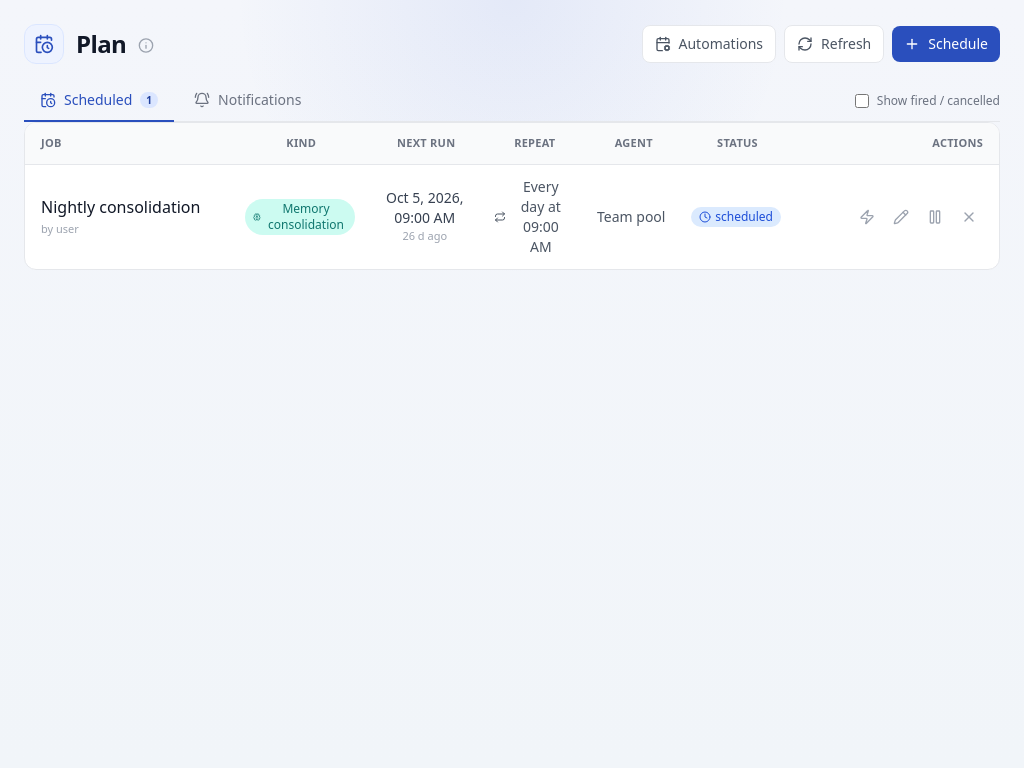
Plan — editing a memory consolidation job › refuses to save without a pool picked
expect the text "Nightly consolidation" is shown: met, box top-left (41, 196), bottom-right (200, 218)
Click the button titled "Edit" at (901, 216), box top-left (887, 202), bottom-right (915, 230)
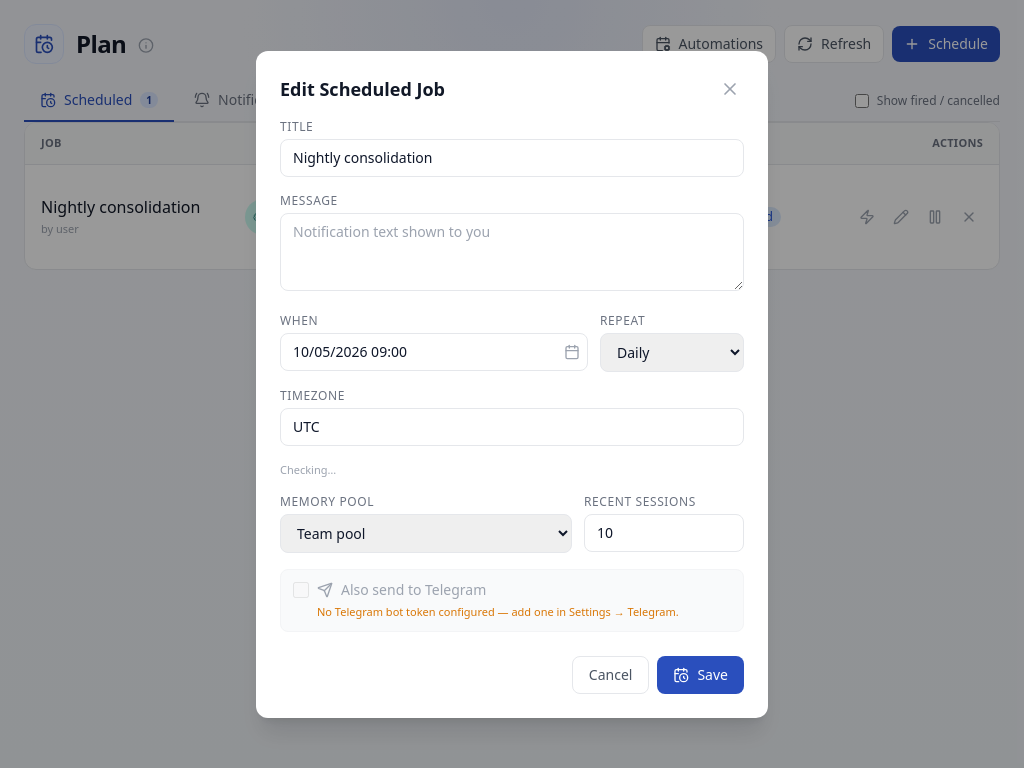
expect the heading "Edit Scheduled Job" is shown: met, box top-left (280, 74), bottom-right (445, 102)
Select "Select a pool…" in the dropdown showing "Team pool" below "Memory pool" at (426, 534), box top-left (280, 514), bottom-right (572, 553)
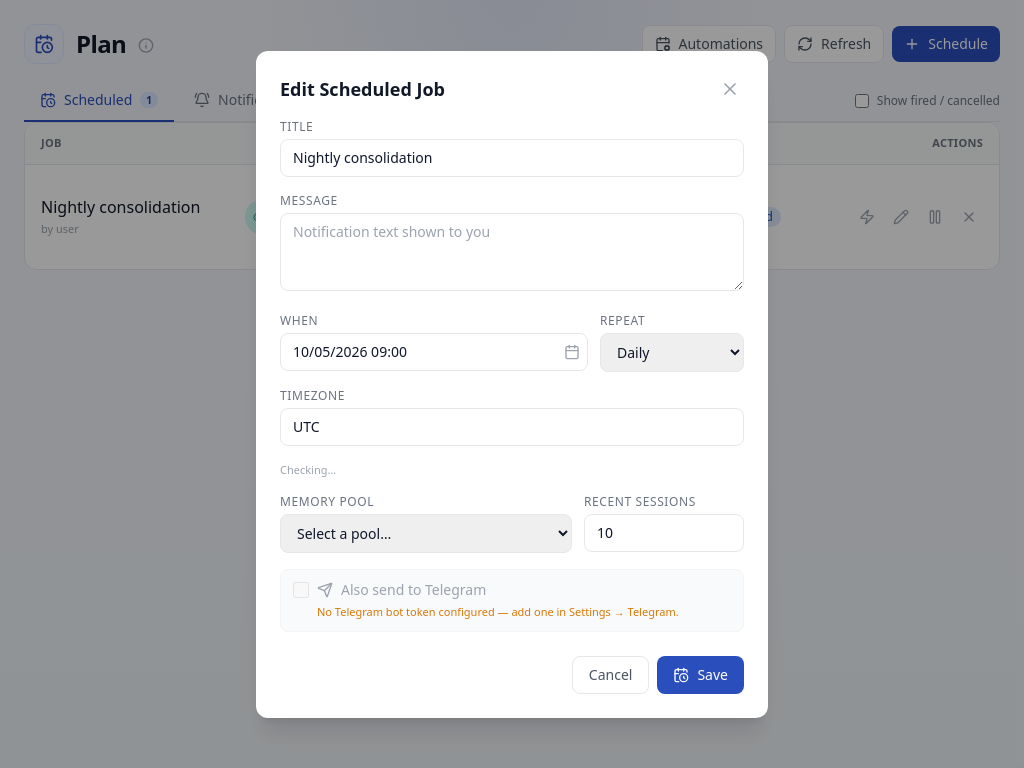
Click the button "Save" at (701, 674), box top-left (657, 656), bottom-right (744, 694)
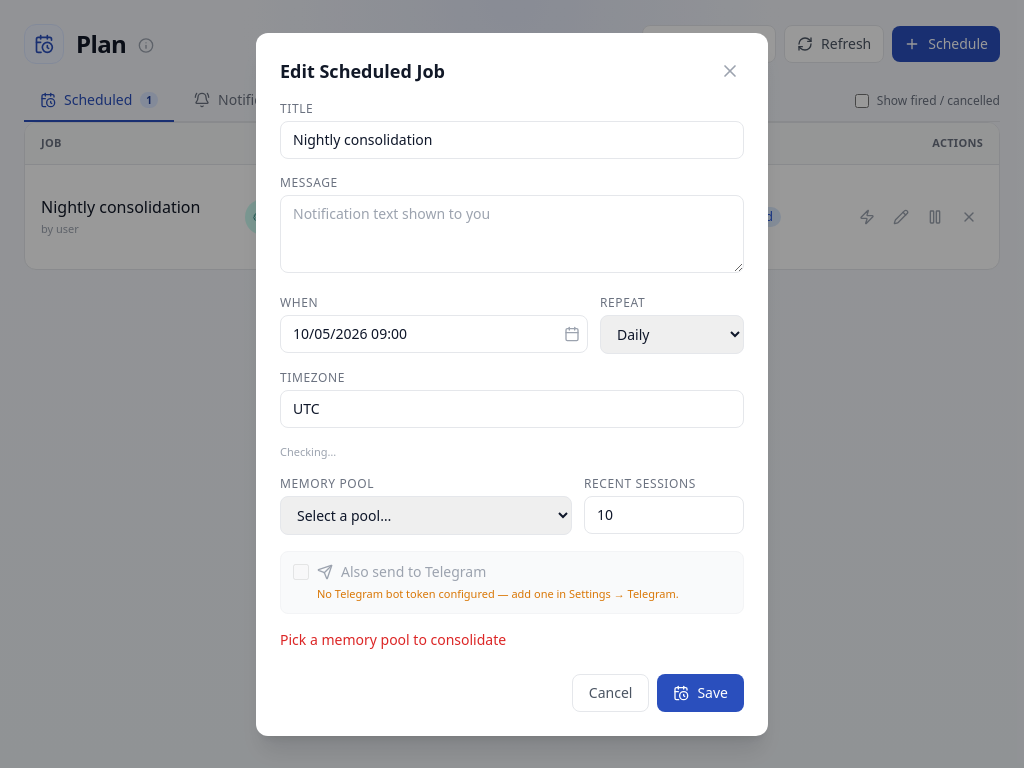
expect the text "Pick a memory pool to consolidate" is shown: met, box top-left (280, 630), bottom-right (506, 648)
